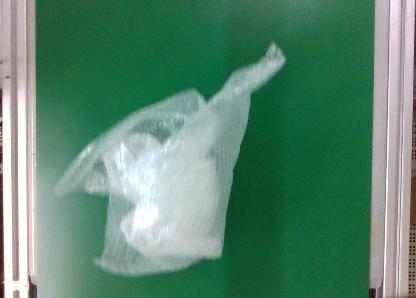Others: (61, 42, 286, 278)
